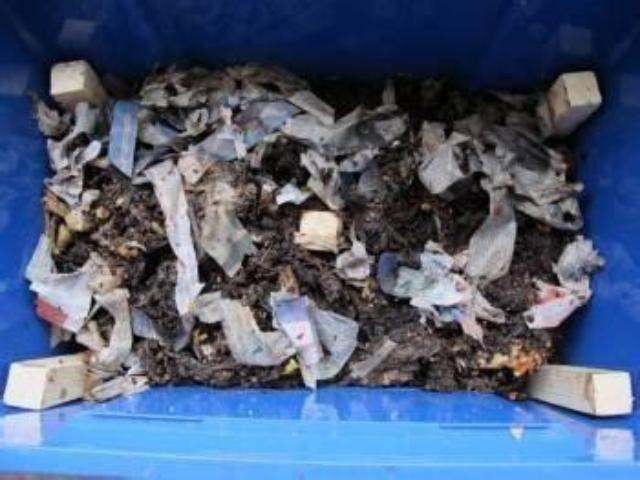Garbage: (6, 50, 634, 420)
